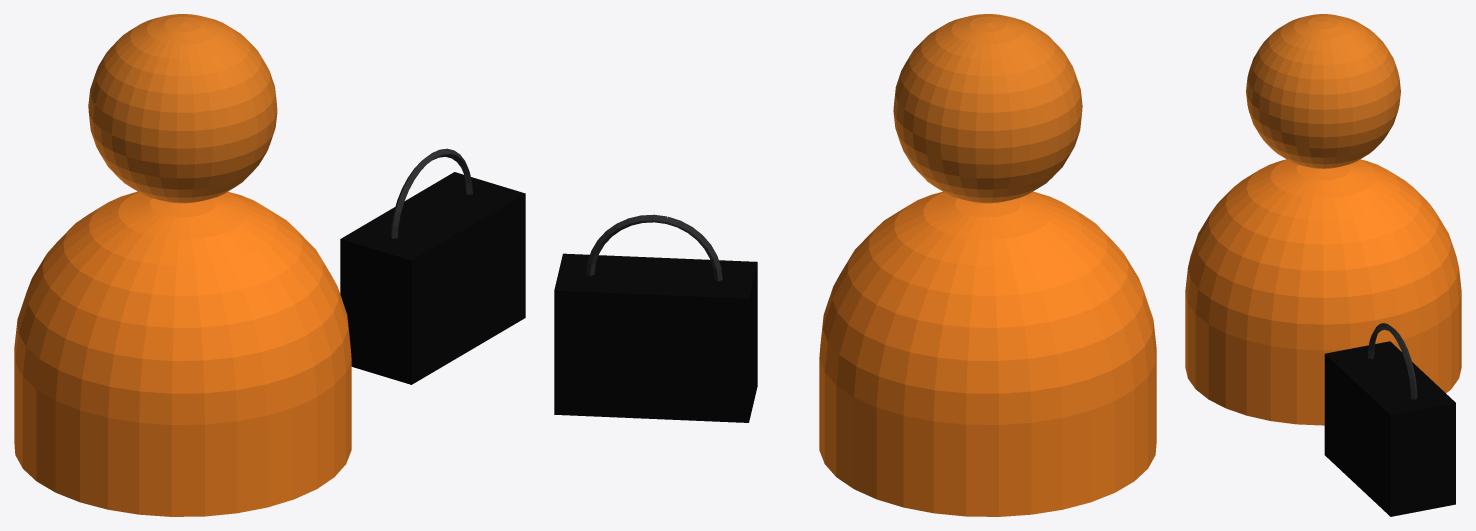
File: apprenti.glb
3 views of the same model, side by side, from view 1: azimuth 30°, elevation 25°; view 2: azimuth 150°, elevation 25°; view 3: azimuth 270°, elevation 25° (orthographic). The views are drawn at different scales.
Visible parts, largest first — view 1: Sphere, Cylinder, Cube, Sphere.001, Circle_Lines.001; view 2: Sphere, Cube, Cylinder, Sphere.001, Circle_Lines.001; view 3: Sphere, Sphere.001, Cube, Cylinder, Circle_Lines.001.
Boxes of the visible parts, x1,y1,x2,y2 form: Sphere: (14, 191, 351, 424); Cylinder: (14, 353, 351, 516); Cube: (340, 172, 525, 384); Sphere.001: (88, 14, 277, 203); Circle_Lines.001: (391, 148, 472, 238); Sphere: (819, 191, 1156, 424); Cube: (554, 253, 757, 422); Cylinder: (819, 352, 1156, 516); Sphere.001: (893, 14, 1082, 203); Circle_Lines.001: (586, 214, 722, 281); Sphere: (1185, 159, 1461, 350); Sphere.001: (1246, 14, 1400, 168); Cube: (1324, 341, 1455, 516); Cylinder: (1185, 293, 1461, 425); Circle_Lines.001: (1367, 323, 1417, 399).
Size of the model in its own units: 3.62 by 2.76 by 2.
